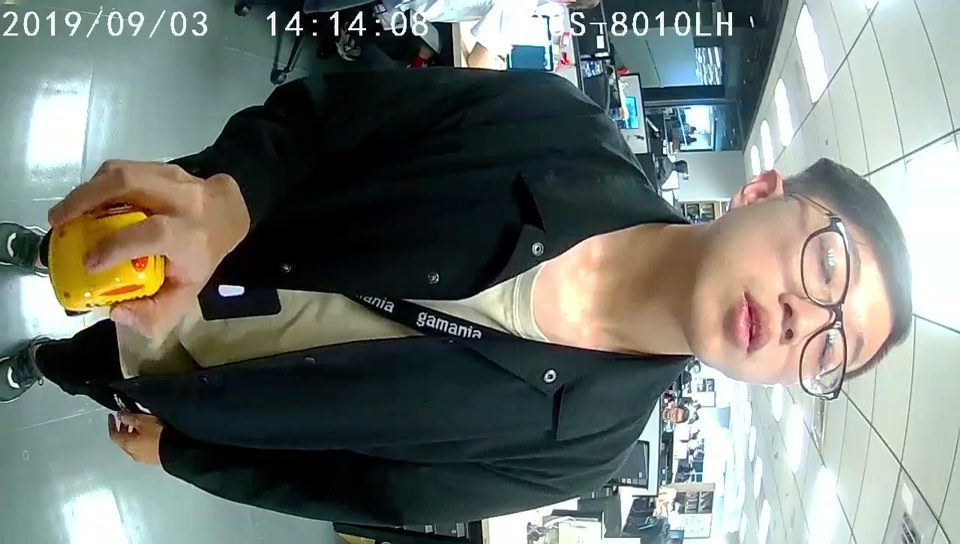car: (47, 208, 168, 309)
